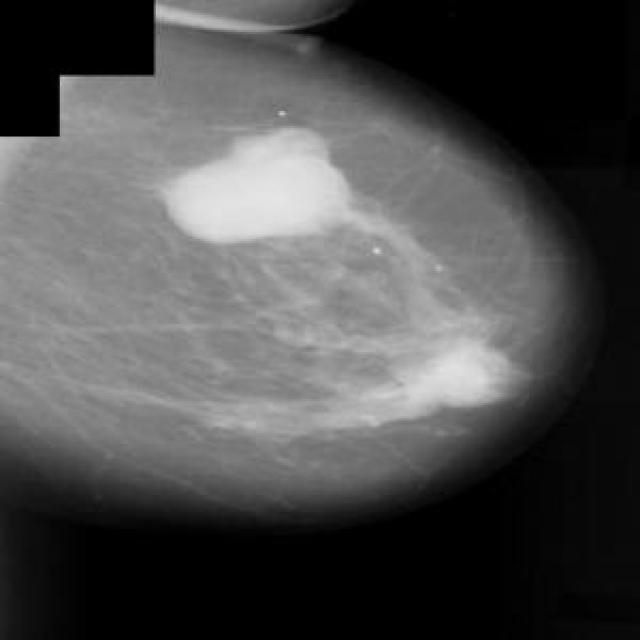tumor: (156, 112, 362, 257), (385, 326, 522, 422)
